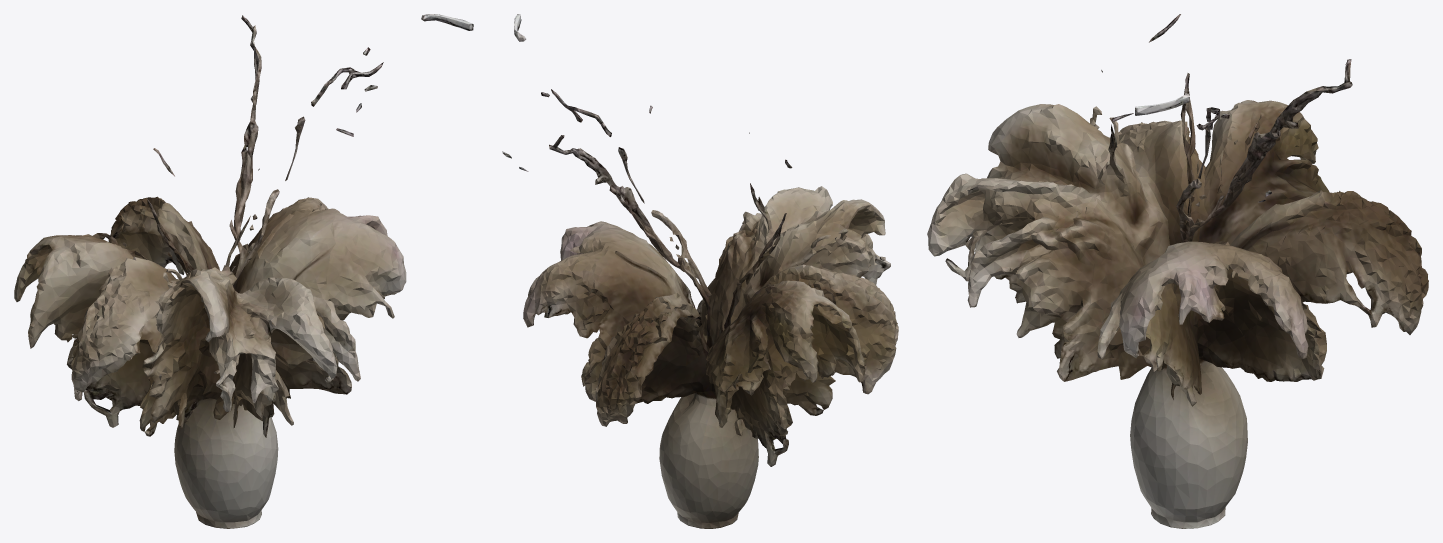
The model's file is ast_31c15251a859.glb.
3 renders of one model, left to right at view 1: azimuth 30°, elevation 25°; view 2: azimuth 150°, elevation 25°; view 3: azimuth 270°, elevation 25°, orthographic. The views are drawn at different scales.
Visible parts, largest first — view 1: geometry_0; view 2: geometry_0; view 3: geometry_0.
Boxes of the visible parts, bbox=[...] form: geometry_0: bbox=[14, 14, 473, 528]; geometry_0: bbox=[502, 14, 898, 528]; geometry_0: bbox=[927, 14, 1428, 528].
Bounding box in the file's own units: 0.9321 × 1 × 0.8556.
Materials: 1 (1 with a texture image).
